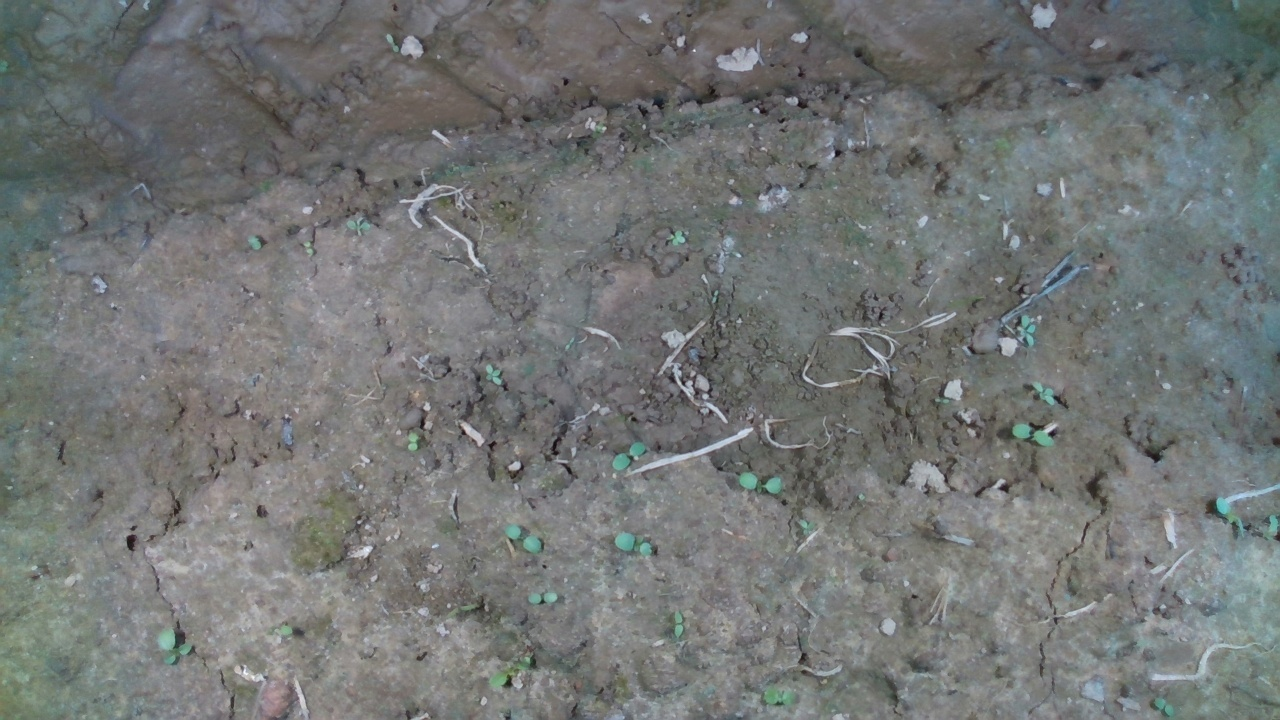weed: (151, 624, 200, 672), (501, 519, 549, 555), (613, 527, 658, 563), (1010, 418, 1057, 449), (735, 466, 783, 496), (1010, 312, 1044, 343), (609, 439, 639, 471), (524, 586, 565, 608), (666, 608, 690, 645), (343, 215, 379, 238), (1033, 378, 1056, 406), (405, 430, 427, 458), (485, 363, 508, 387), (666, 226, 687, 245)
